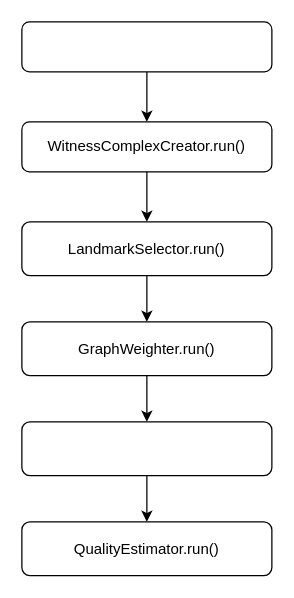
Image size: 294x598. Some labels were removed from this diagram. Each missing label, with the box of its shape:
DataProcessor.load_data(): (21, 21, 272, 72)
Visualizer.run(): (21, 421, 272, 476)
